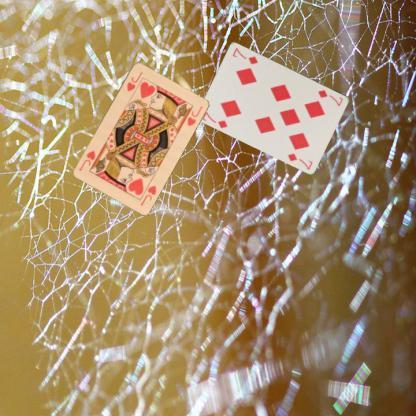7d: (200, 108, 229, 130), (315, 88, 344, 108)
Jh: (138, 182, 158, 207), (125, 68, 144, 92)
